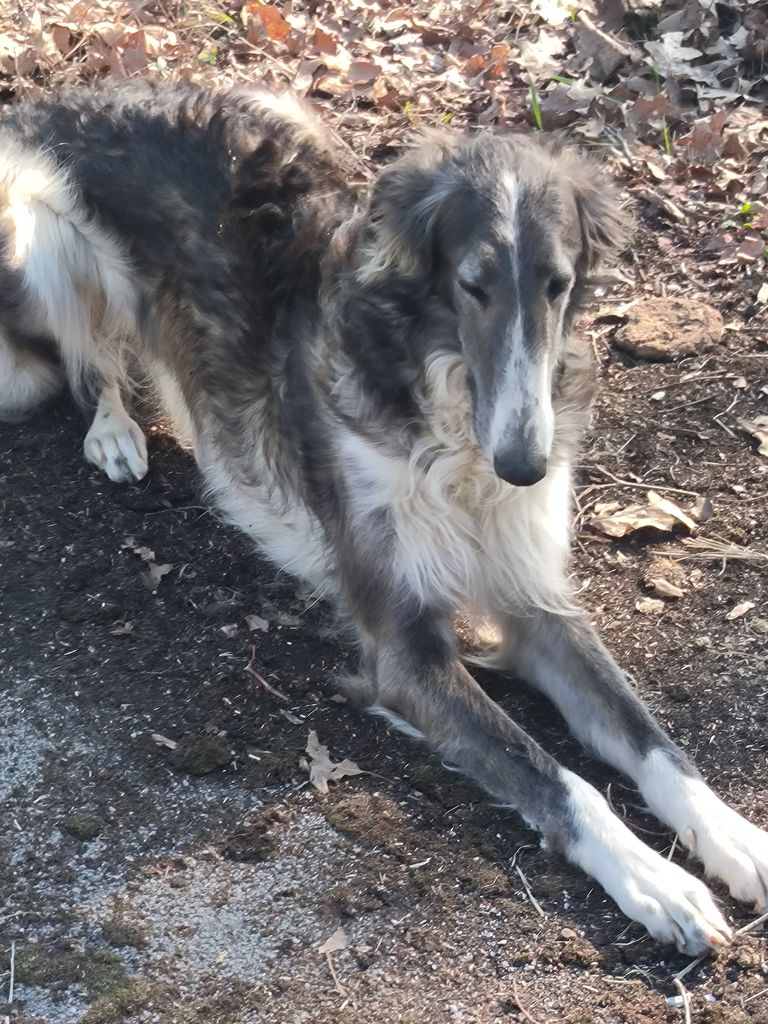borzoi: (0, 43, 757, 988)
